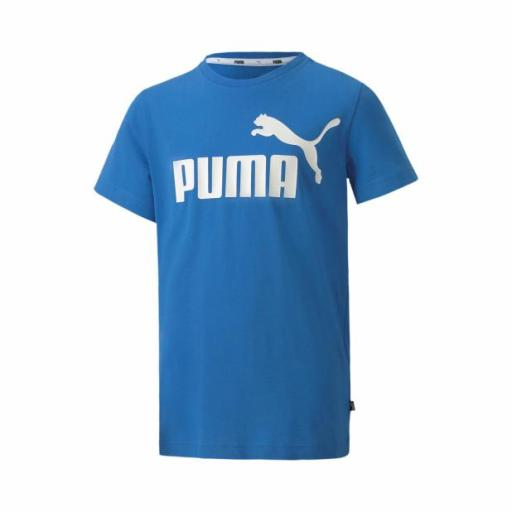Puma: (250, 109, 344, 187)
